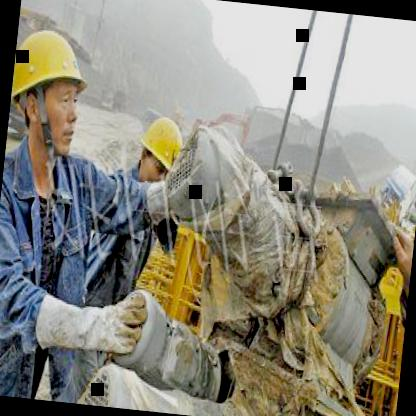helmet: (5, 12, 96, 165), (126, 106, 190, 198)
